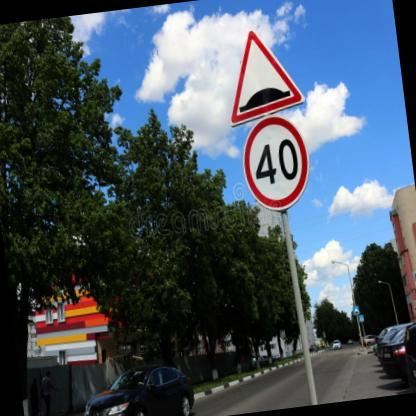road_sign: (232, 31, 303, 126), (244, 116, 308, 210), (351, 305, 361, 317)
